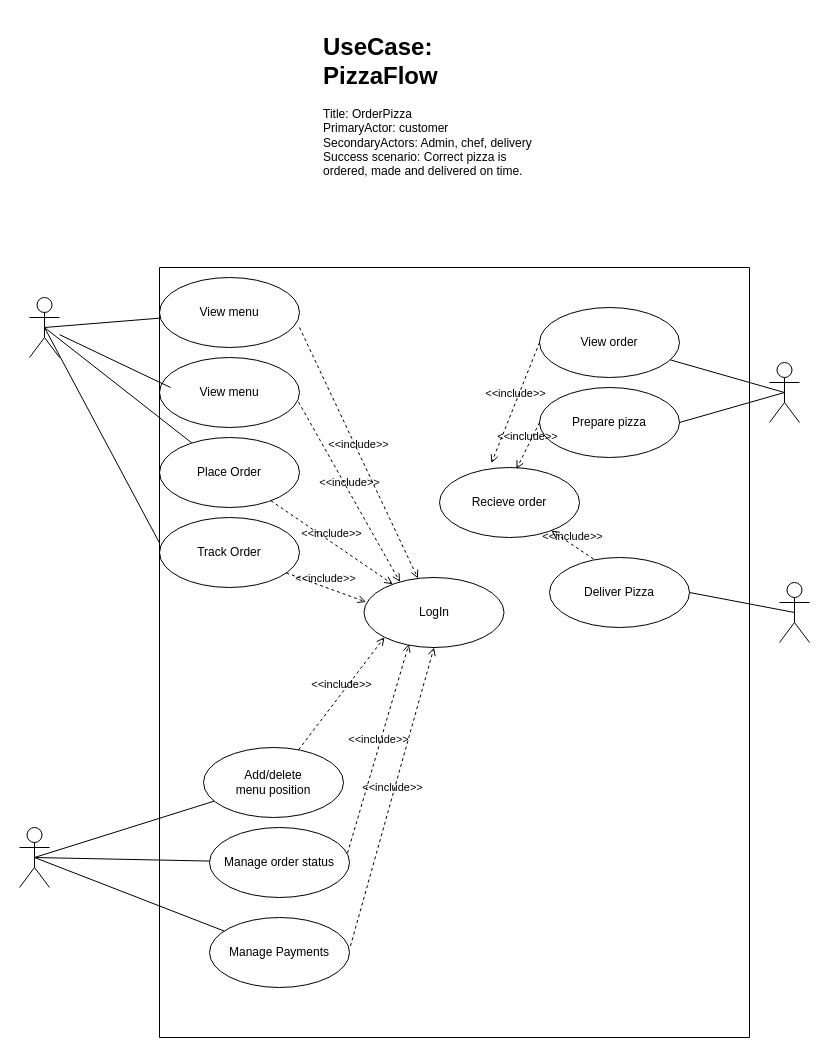
This 833x1055 diagram has some shape labels left out. Each missing label, with the centre of its shape:
"Admin" goes at point 34,857.
"Chef" goes at point 784,392.
"Customer" goes at point 44,327.
"Delivery" goes at point 794,612.
